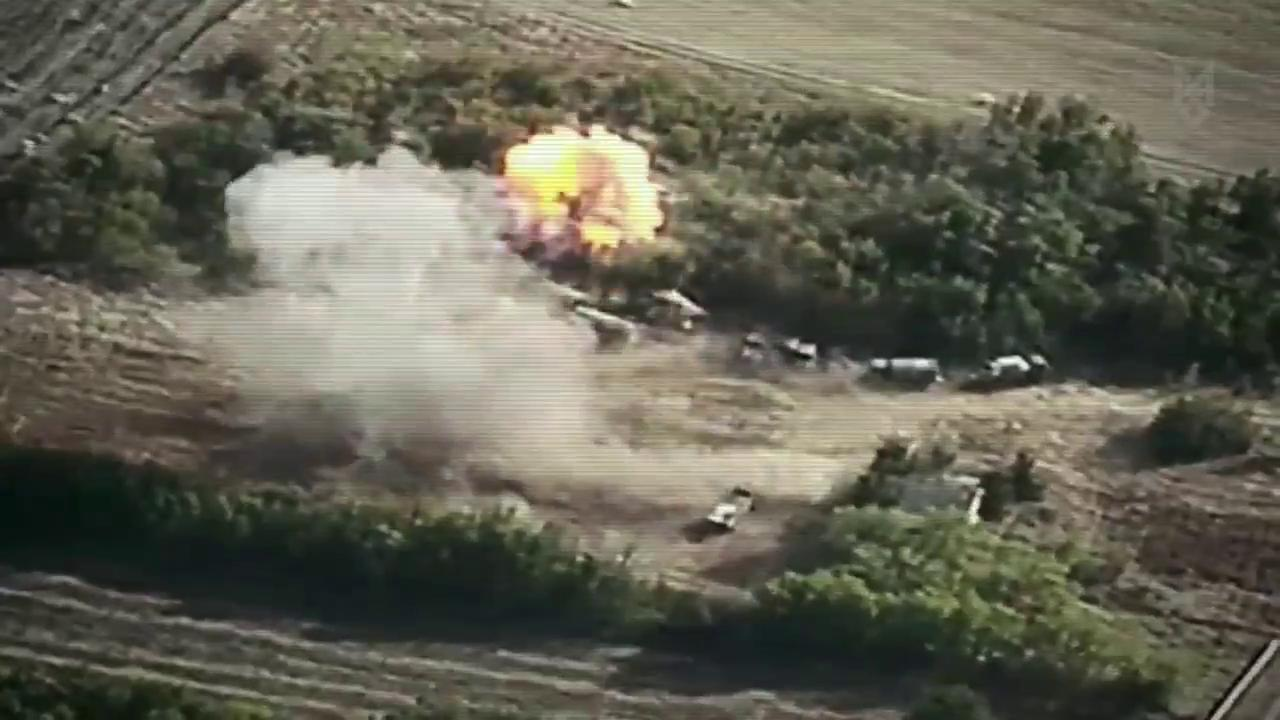tank: (573, 303, 646, 356), (738, 318, 818, 364), (977, 346, 1050, 395), (638, 284, 710, 330), (866, 354, 943, 394), (702, 484, 758, 535), (550, 276, 590, 308)
